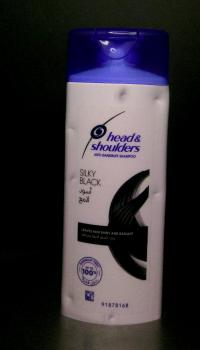dent_unacceptable: (102, 80, 168, 105), (148, 181, 164, 204), (103, 306, 119, 326), (64, 169, 81, 187), (62, 291, 79, 307), (64, 126, 82, 141)
